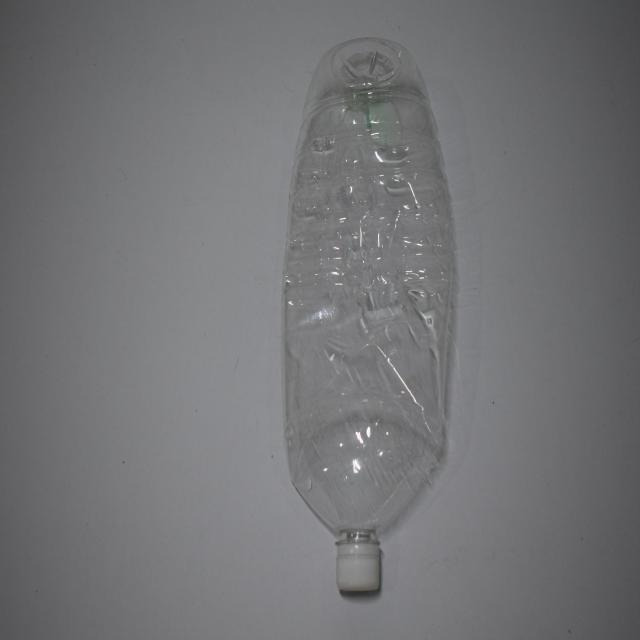bottle: (273, 41, 462, 605)
